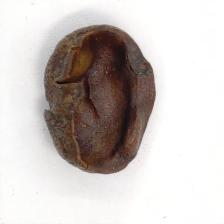NG: (70, 23, 153, 174), (44, 43, 80, 153)
